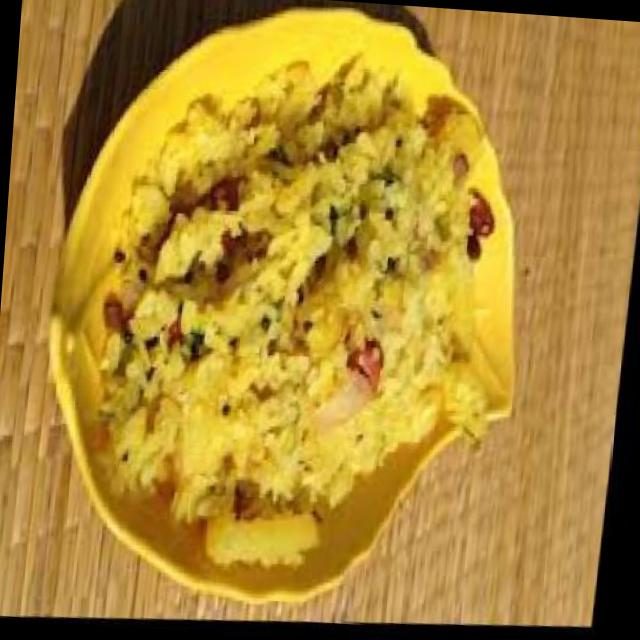poha: (78, 34, 528, 596)
